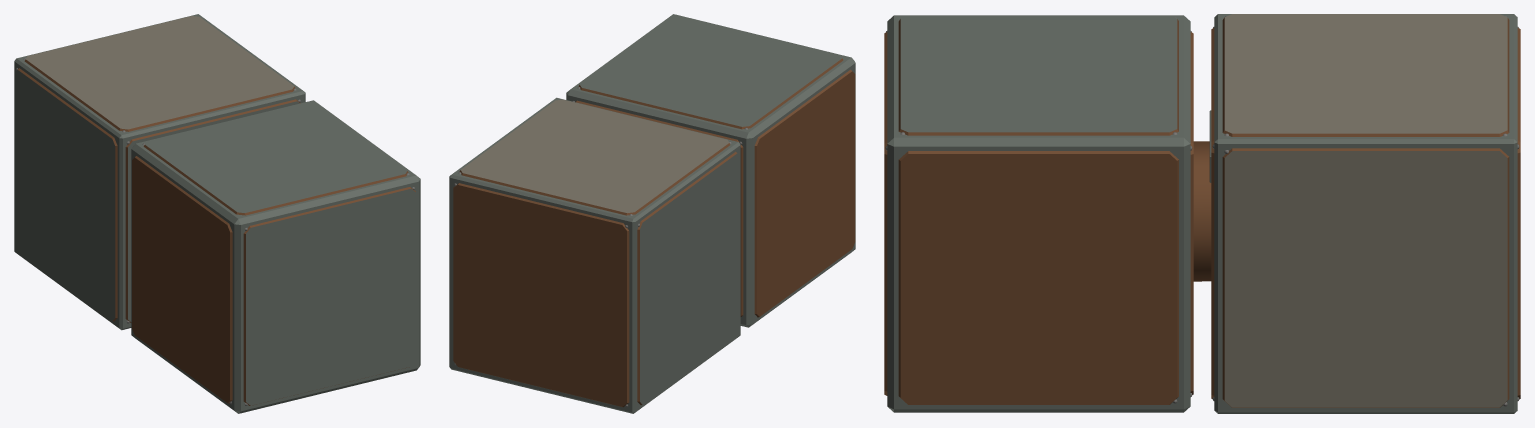
Rendered from R4C_STRUT_SHORT.fbx.
3 renders of one model, left to right at view 1: azimuth 30°, elevation 25°; view 2: azimuth 150°, elevation 25°; view 3: azimuth 270°, elevation 25°, orthographic. The views are drawn at different scales.
Visible parts, largest first — view 1: R4C_STRUT_SHORT; view 2: R4C_STRUT_SHORT; view 3: R4C_STRUT_SHORT.
Boxes of the visible parts, bbox=[...] form: R4C_STRUT_SHORT: bbox=[14, 14, 420, 413]; R4C_STRUT_SHORT: bbox=[449, 14, 855, 413]; R4C_STRUT_SHORT: bbox=[884, 14, 1520, 413].
Bounding box in the file's own units: 0.52 × 0.52 × 1.07.
